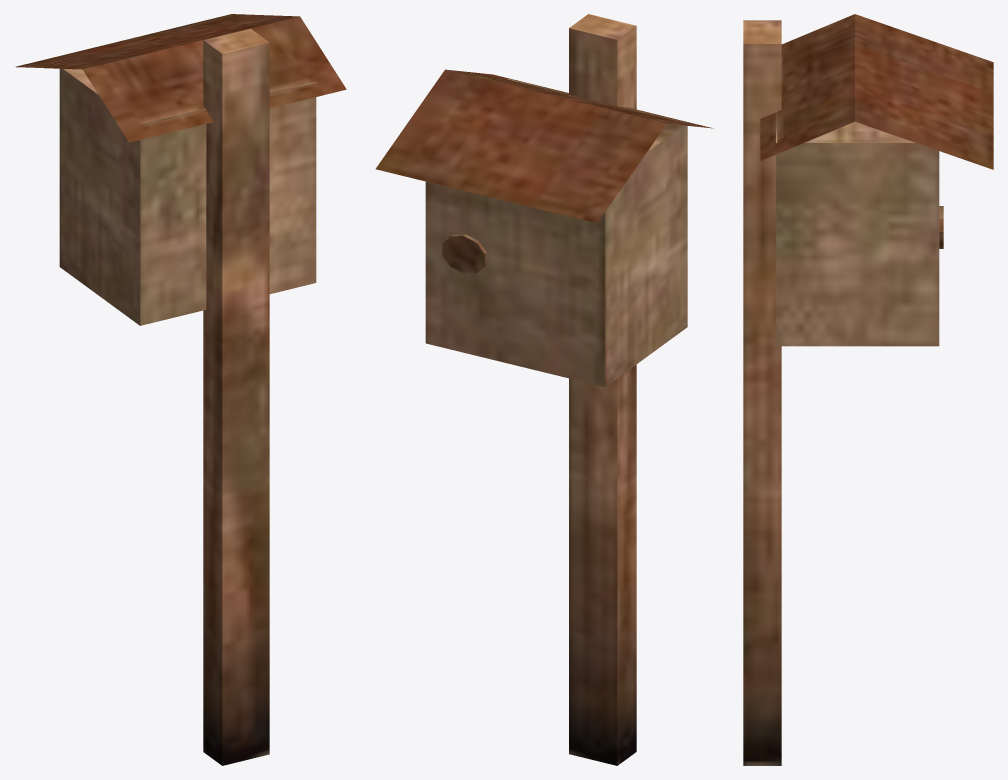
File: bird nest.fbx
The picture shows the model from 3 angles, left to right: view 1: azimuth 30°, elevation 25°; view 2: azimuth 150°, elevation 25°; view 3: azimuth 270°, elevation 25°; orthographic projection.
Visible parts, largest first — view 1: bird nest; view 2: bird nest; view 3: bird nest.
Part boxes in pixels (left/top/right/bottom): bird nest: left=15, top=14, right=346, bottom=765; bird nest: left=375, top=14, right=712, bottom=765; bird nest: left=743, top=14, right=993, bottom=765.
Bounding box in the file's own units: 303 × 946 × 298.
